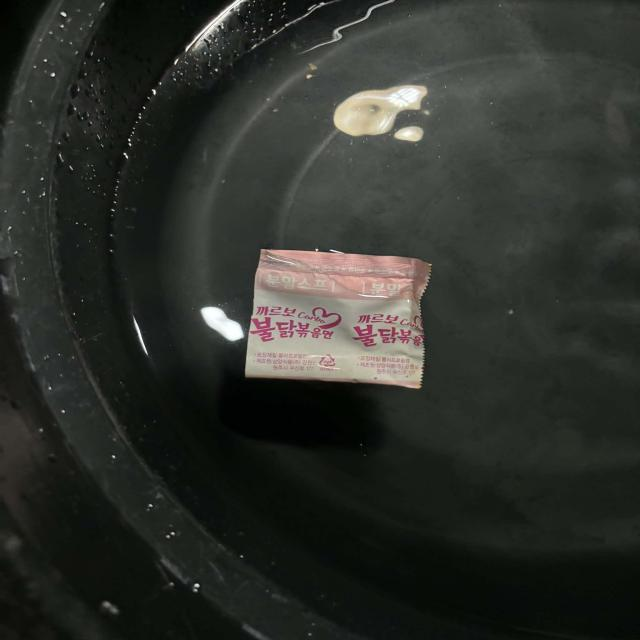Plastic Wrapper: (207, 232, 461, 406)
